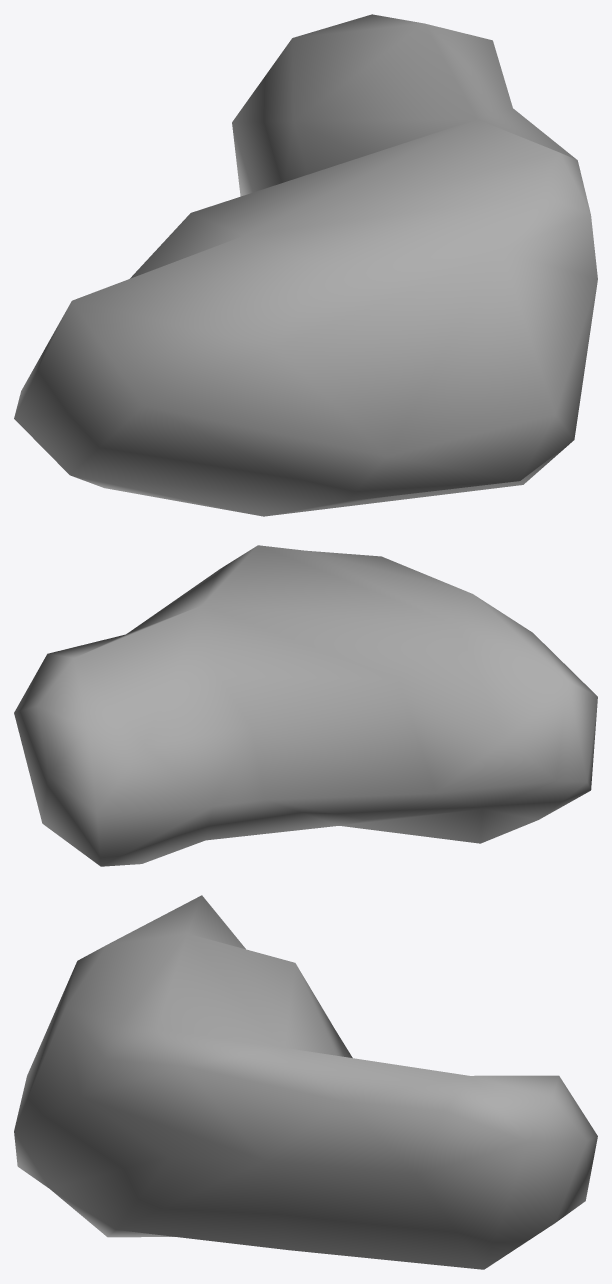
The model's file is SoftRock_01.fbx.
3 renders of one model, top to bottom at view 1: azimuth 30°, elevation 25°; view 2: azimuth 150°, elevation 25°; view 3: azimuth 270°, elevation 25°, orthographic. The views are drawn at different scales.
Visible parts, largest first — view 1: SoftRock_01; view 2: SoftRock_01; view 3: SoftRock_01.
Part boxes in pixels (left/top/right/bottom): SoftRock_01: left=14, top=14, right=597, bottom=516; SoftRock_01: left=14, top=545, right=597, bottom=866; SoftRock_01: left=14, top=895, right=597, bottom=1269.
Bounding box in the file's own units: 84.33 × 38.92 × 86.73.
